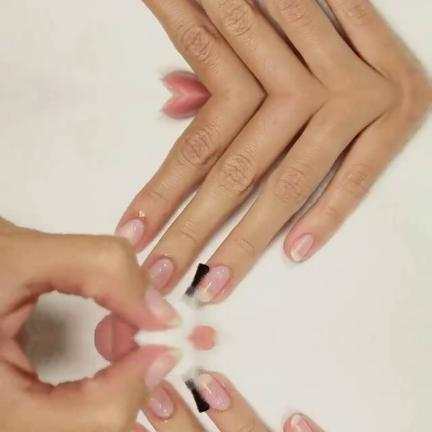Nail: (144, 287, 183, 326), (144, 348, 183, 387), (194, 263, 230, 301), (194, 373, 230, 411), (147, 257, 175, 288), (147, 386, 175, 417), (117, 218, 144, 244), (290, 233, 315, 261), (290, 413, 314, 432), (132, 430, 138, 432)
